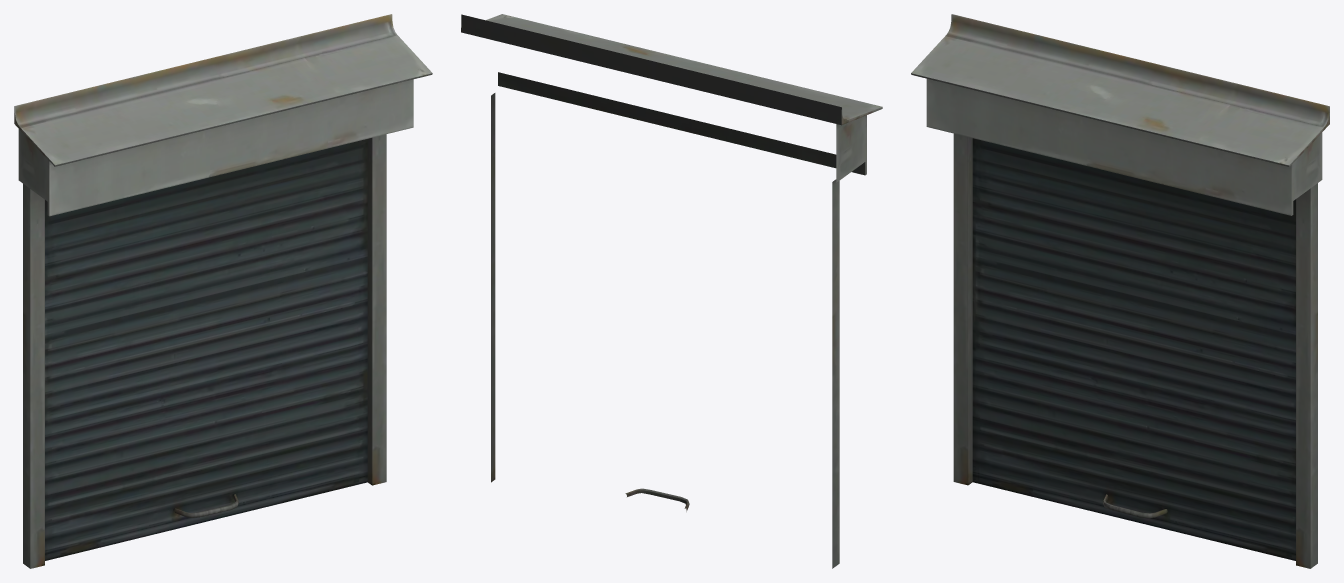
3 renders of one model, left to right at view 1: azimuth 30°, elevation 25°; view 2: azimuth 150°, elevation 25°; view 3: azimuth 330°, elevation 25°, orthographic.
Parts seen in each view (by area): view 1: body0_model0_lod0_mesh0; view 2: body0_model0_lod0_mesh0; view 3: body0_model0_lod0_mesh0.
Part boxes in pixels (bbox=[...]): body0_model0_lod0_mesh0: bbox=[14, 14, 432, 568]; body0_model0_lod0_mesh0: bbox=[461, 14, 882, 568]; body0_model0_lod0_mesh0: bbox=[911, 14, 1329, 568].
Size of the model in its own units: 128 by 149 by 24.28.
1 material, 1 textured.
